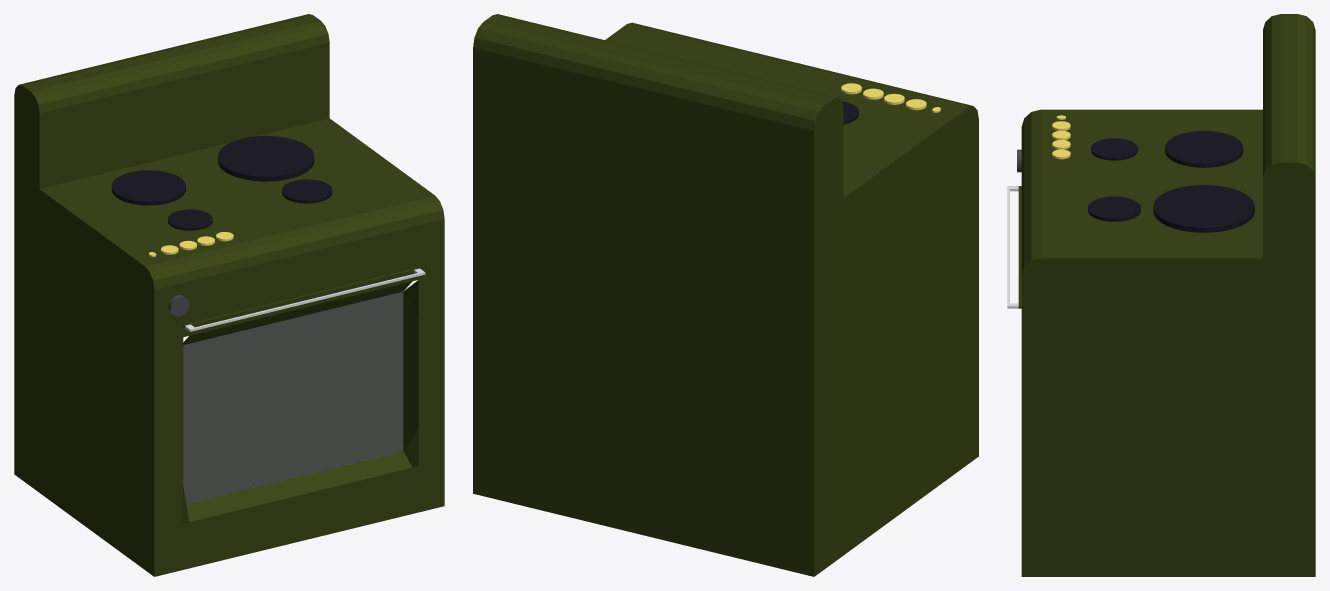
Rendered from kitchen-oven.glb.
3 views of the same model, side by side, from view 1: azimuth 30°, elevation 25°; view 2: azimuth 150°, elevation 25°; view 3: azimuth 270°, elevation 25° (orthographic). The views are drawn at different scales.
Parts seen in each view (by area): view 1: Oven and Stove; view 2: Oven and Stove; view 3: Oven and Stove.
Part boxes in pixels (x1,y1,x2,y2): Oven and Stove: (14,14,444,576); Oven and Stove: (473,14,978,576); Oven and Stove: (1007,14,1315,576).
Bounding box in the file's own units: 1.83 × 2.38 × 1.6.
Materials: 3 (3 with a texture image).
